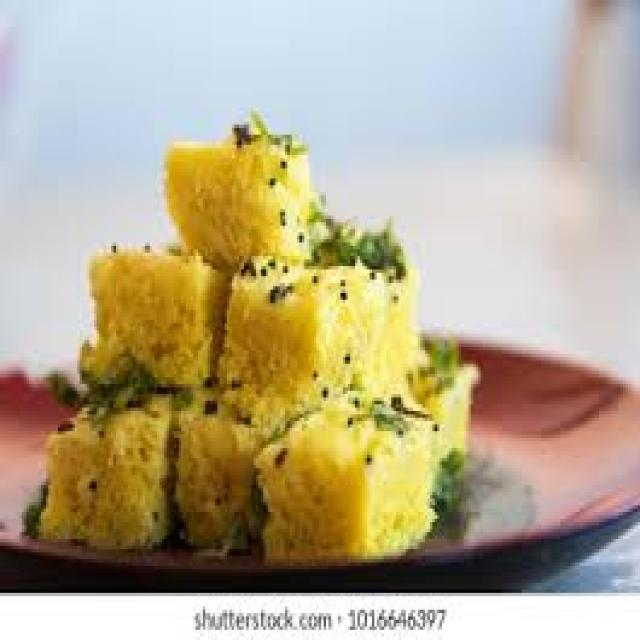DHOKLA: (27, 115, 476, 563)
